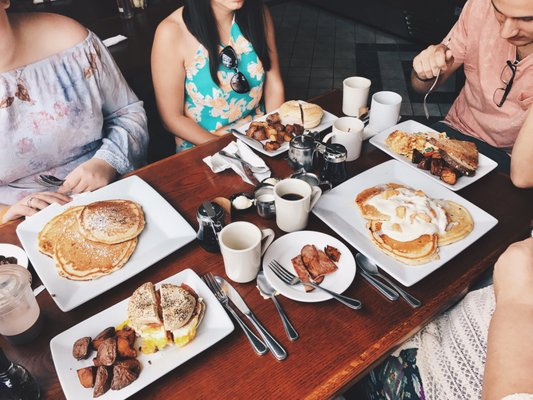burger: (270, 257, 364, 310), (356, 251, 422, 307), (257, 275, 299, 340)
pizza: (0, 257, 43, 342), (217, 220, 274, 283), (274, 179, 314, 233), (329, 117, 366, 162), (368, 90, 403, 134), (288, 136, 323, 177), (342, 76, 372, 118)
sandwich: (205, 273, 289, 361), (204, 273, 266, 359)
soup: (37, 198, 146, 282), (118, 282, 168, 355), (155, 281, 205, 347)
